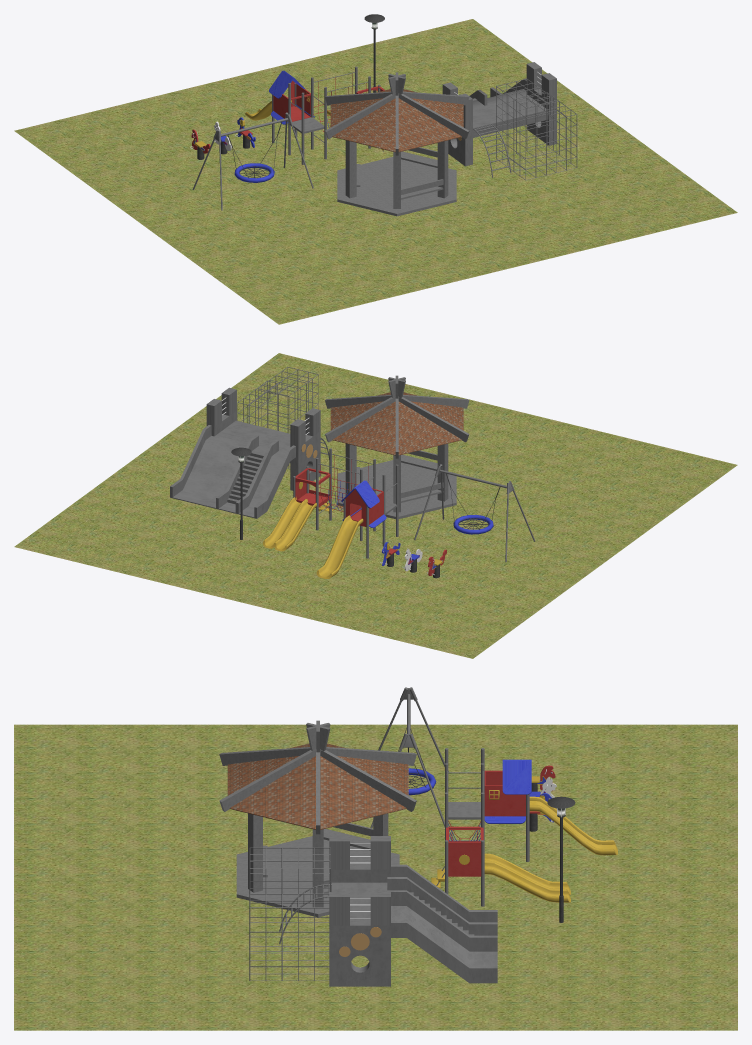
File: park_facility_asset.glb
The picture shows the model from 3 angles, top to bottom: view 1: azimuth 30°, elevation 25°; view 2: azimuth 150°, elevation 25°; view 3: azimuth 270°, elevation 25°; orthographic projection. The views are drawn at different scales.
Parts seen in each view (by area): view 1: Plane, rest_2, slider_2, Slider02, Dount; view 2: Plane, slider_2, rest_2, Slider02, Dount; view 3: Plane, rest_2, slider_2, Slider02, Dount, Lamp.
Part boxes in pixels (x1=…): Plane: x1=14, y1=19, x2=737, y2=324; rest_2: x1=325, y1=72, x2=469, y2=216; slider_2: x1=442, y1=62, x2=577, y2=180; Slider02: x1=245, y1=66, x2=384, y2=164; Dount: x1=192, y1=112, x2=313, y2=210; Plane: x1=14, y1=353, x2=737, y2=658; slider_2: x1=170, y1=367, x2=329, y2=518; rest_2: x1=325, y1=375, x2=469, y2=519; Slider02: x1=263, y1=448, x2=398, y2=578; Dount: x1=414, y1=464, x2=535, y2=562; Plane: x1=14, y1=724, x2=737, y2=1030; rest_2: x1=219, y1=720, x2=416, y2=917; slider_2: x1=249, y1=836, x2=497, y2=986; Slider02: x1=431, y1=748, x2=617, y2=906; Dount: x1=370, y1=687, x2=448, y2=828; Lamp: x1=547, y1=796, x2=575, y2=922.
Size of the model in its own units: 2000 by 465 by 2000.
Materials: 13 (10 with a texture image).
